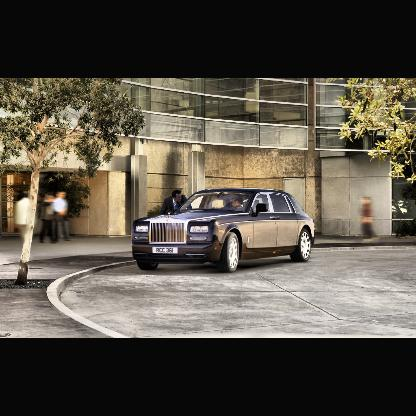Rolls-Royce Ghost Sedan 2012: (134, 191, 317, 274)
